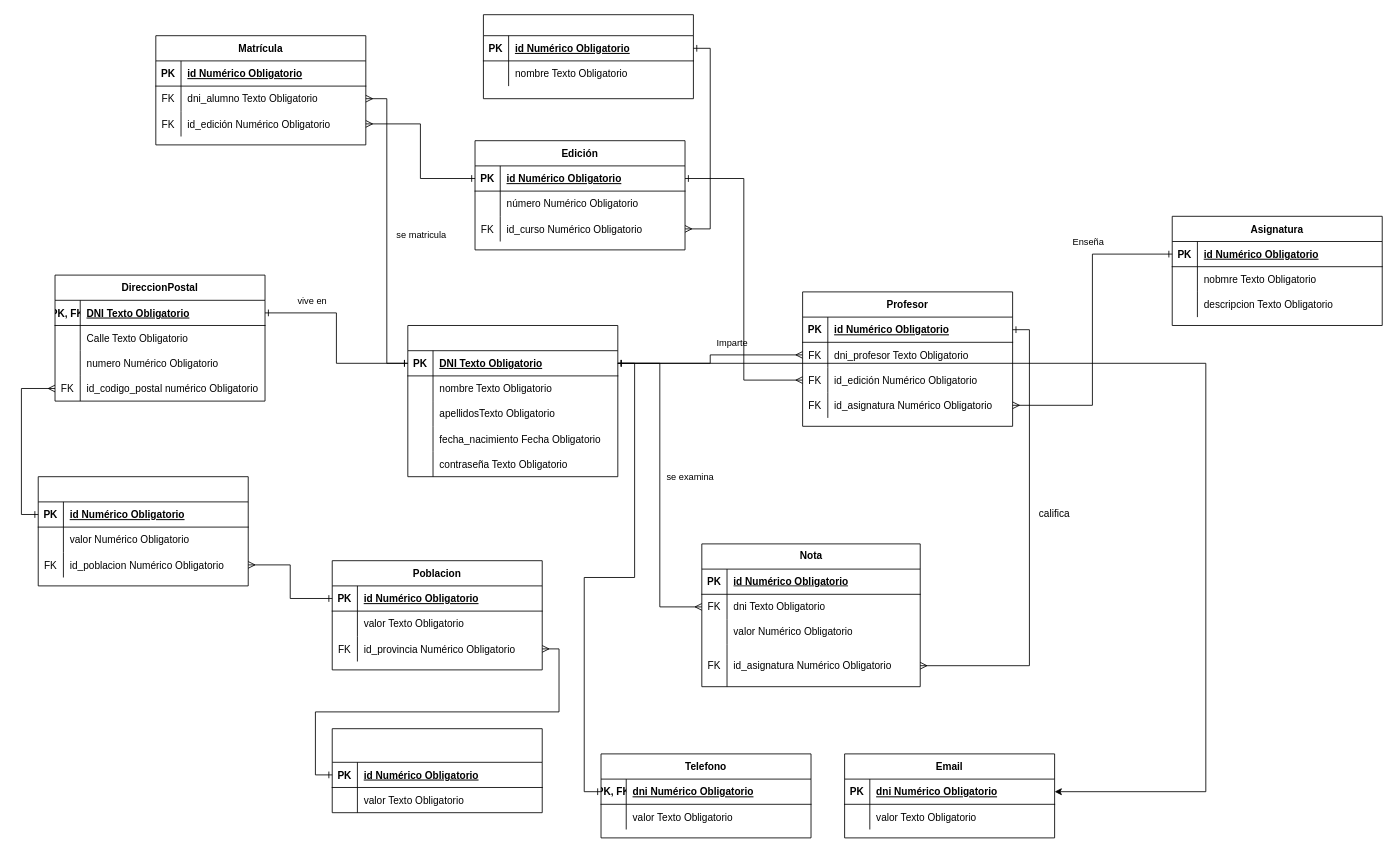
Image size: 1397x853. Some labels were removed from this diagram. The box of each missing label's shape, as (x1, y1, x2, y2) in pixels:
CodigoPostal: (37, 476, 248, 586)
Contacto: (407, 325, 618, 477)
Curso: (483, 14, 693, 99)
Provincia: (331, 728, 542, 813)
